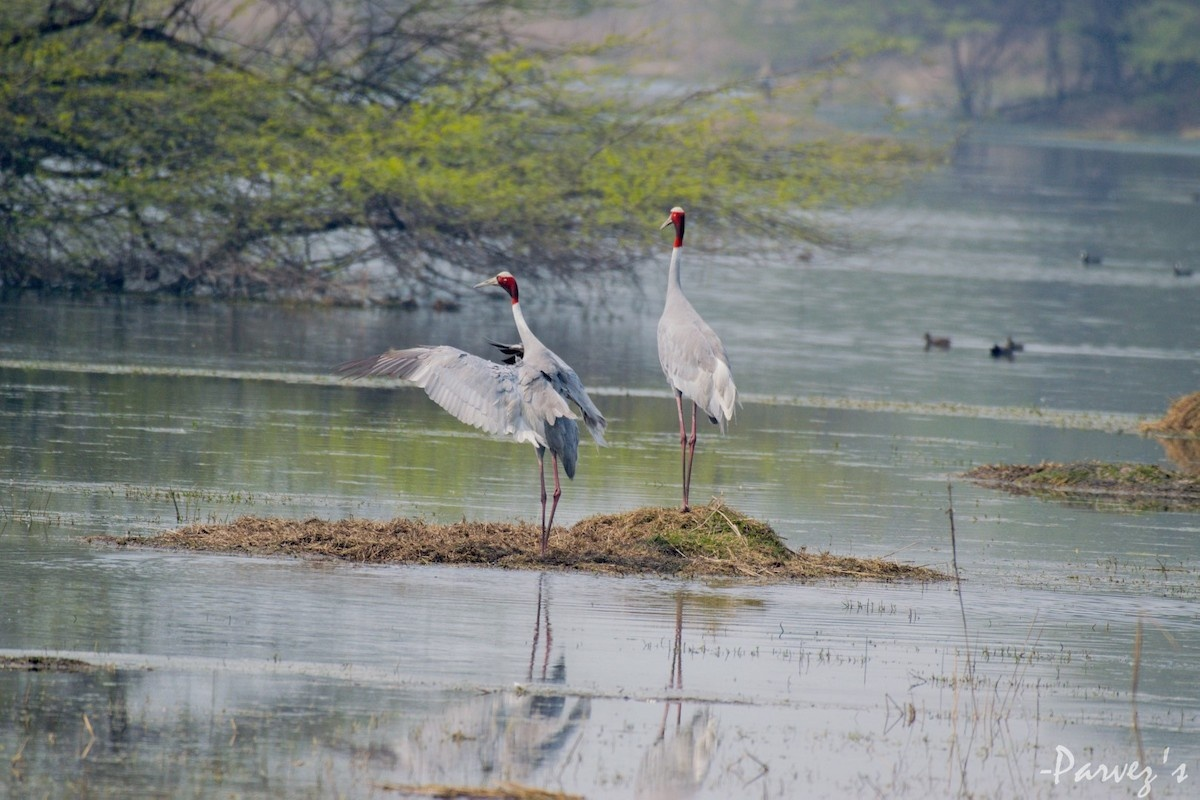crane: (366, 263, 609, 538), (644, 201, 740, 524)
